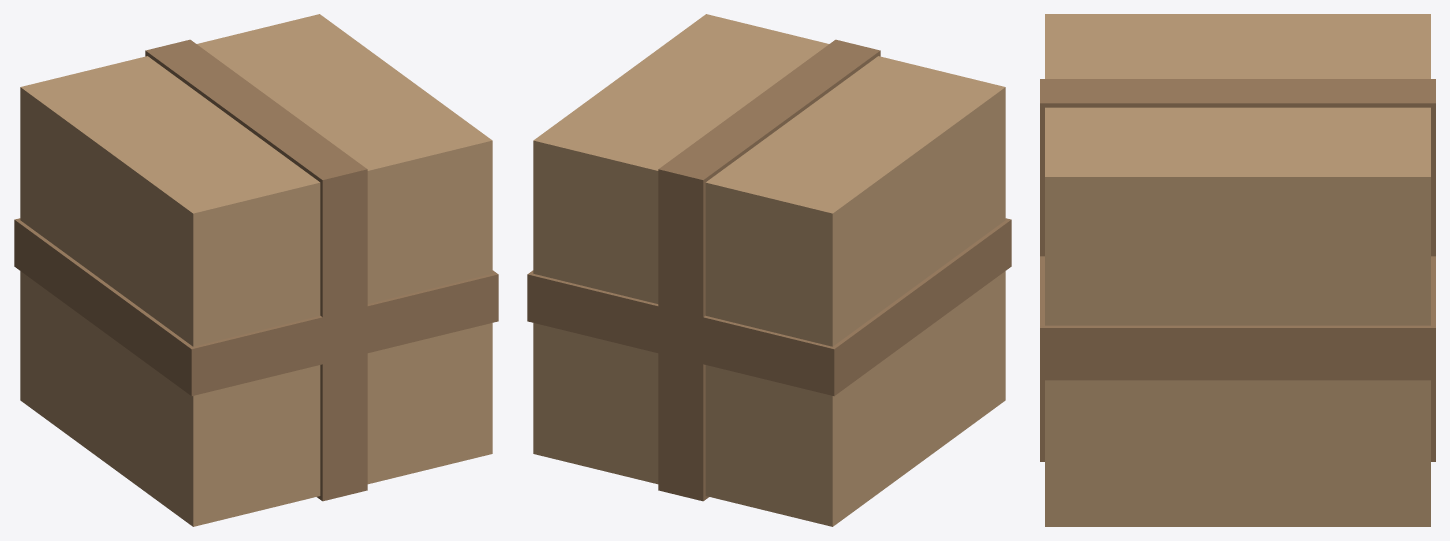
The model's file is Crate.fbx.
3 renders of one model, left to right at view 1: azimuth 30°, elevation 25°; view 2: azimuth 150°, elevation 25°; view 3: azimuth 270°, elevation 25°, orthographic. The views are drawn at different scales.
Visible parts, largest first — view 1: Body; view 2: Body; view 3: Body.
Boxes of the visible parts, bbox=[...] form: Body: bbox=[14, 14, 498, 526]; Body: bbox=[527, 14, 1011, 526]; Body: bbox=[1040, 14, 1435, 526].
Size of the model in its own units: 0.82 by 0.82 by 0.82.
